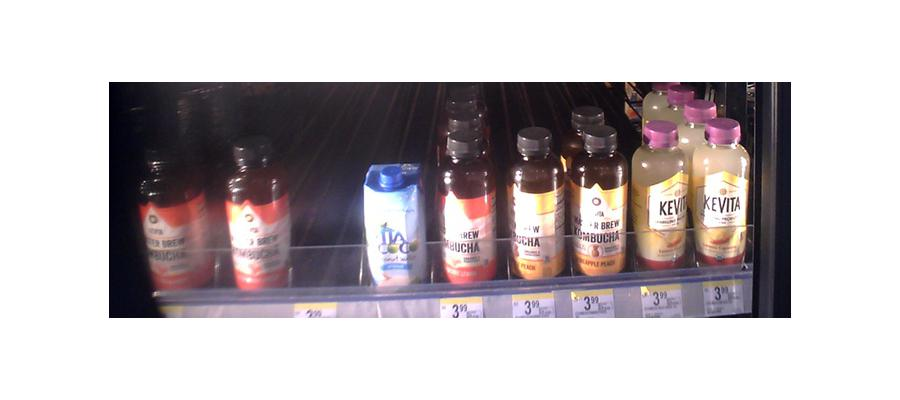bottle: (136, 101, 221, 297), (432, 91, 500, 290), (224, 135, 291, 294), (632, 114, 693, 277), (570, 119, 632, 279), (507, 124, 568, 284), (696, 115, 751, 273), (367, 159, 426, 289)
